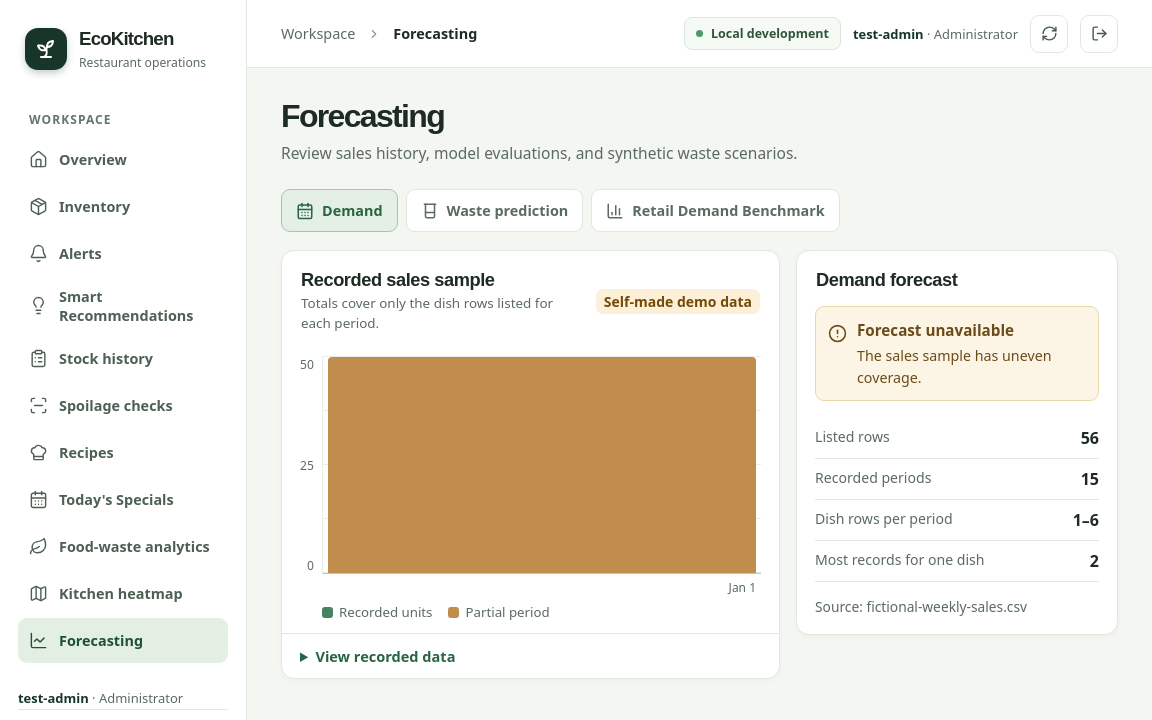
Test: Forecasting dashboard › shows self-made history and both missing-model states without making a forecast
Expected: the heading "Forecast unavailable" is shown, [857,320,1014,340]
Expected: the text "Self-made demo data" is shown, [596,289,760,314]
Click the button "Waste prediction". click: {"x": 494, "y": 211}
box: [406,189,583,232]
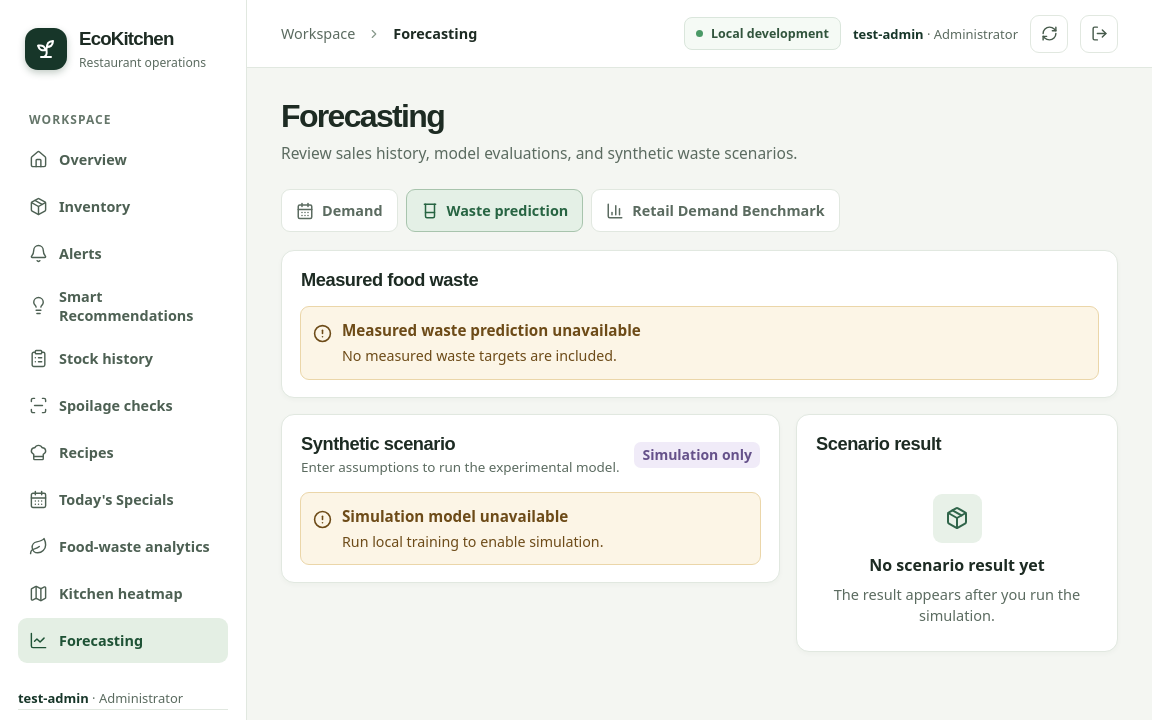
Result: the heading "Measured waste prediction unavailable" is shown at [342,319,641,342]
Result: the heading "Simulation model unavailable" is shown at [342,505,604,528]
